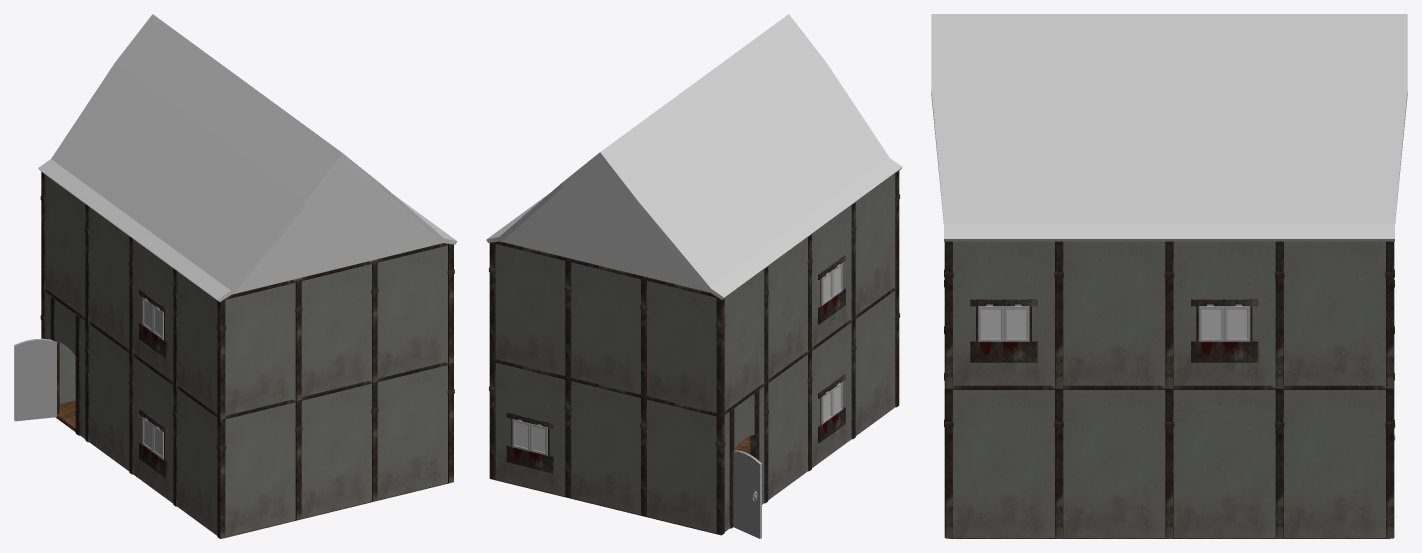
The model's file is Demo House.fbx.
The picture shows the model from 3 angles, left to right: view 1: azimuth 30°, elevation 25°; view 2: azimuth 150°, elevation 25°; view 3: azimuth 270°, elevation 25°; orthographic projection. The views are drawn at different scales.
Parts seen in each view (by area): view 1: Beam_Support_Plain_Horizontal37; view 2: Beam_Support_Plain_Horizontal37; view 3: Beam_Support_Plain_Horizontal37.
Part boxes in pixels (<box>): Beam_Support_Plain_Horizontal37: <box>14,14,457,538</box>; Beam_Support_Plain_Horizontal37: <box>486,14,902,538</box>; Beam_Support_Plain_Horizontal37: <box>931,14,1407,538</box>.
Bounding box in the file's own units: 709 × 911 × 864.
